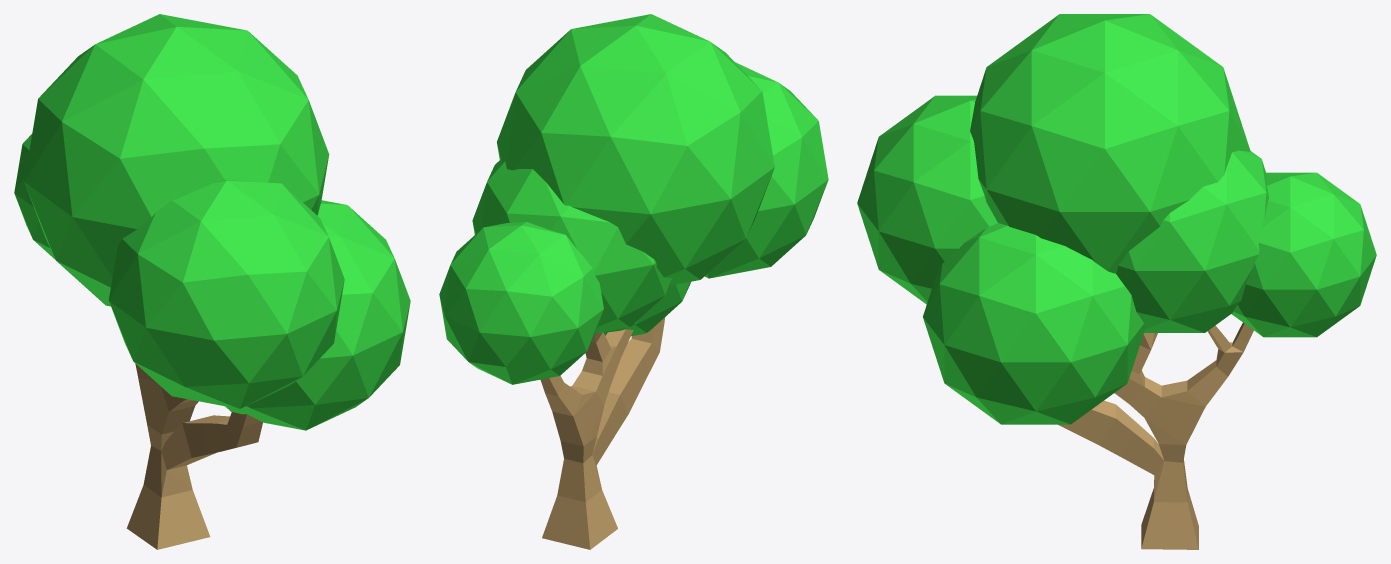
Rendered from arvore1.fbx.
3 renders of one model, left to right at view 1: azimuth 30°, elevation 25°; view 2: azimuth 150°, elevation 25°; view 3: azimuth 270°, elevation 25°, orthographic. The views are drawn at different scales.
Visible parts, largest first — view 1: Icosphere.004, Icosphere.002, Icosphere.003, Plane, Icosphere.001; view 2: Icosphere.004, Icosphere.001, Plane, Icosphere, Icosphere.002, Icosphere.003; view 3: Icosphere.004, Icosphere.003, Icosphere.002, Icosphere.001, Icosphere, Plane.
Boxes of the visible parts, box(x1,y1,x2,y2) form: Icosphere.004: box(24, 14, 329, 306); Icosphere.002: box(108, 179, 344, 408); Icosphere.003: box(225, 200, 410, 430); Plane: box(126, 363, 262, 549); Icosphere.001: box(14, 134, 55, 259); Icosphere.004: box(497, 14, 774, 285); Icosphere.001: box(439, 221, 603, 384); Plane: box(540, 317, 665, 549); Icosphere: box(472, 160, 671, 333); Icosphere.002: box(704, 62, 828, 278); Icosphere.003: box(604, 282, 690, 336); Icosphere.004: box(970, 14, 1250, 273); Icosphere.003: box(923, 223, 1145, 424); Icosphere.002: box(857, 95, 997, 304); Icosphere.001: box(1231, 172, 1376, 337); Icosphere: box(1116, 150, 1268, 332); Plane: box(1058, 322, 1253, 549).
Size of the model in its own units: 489 by 819 by 764.
